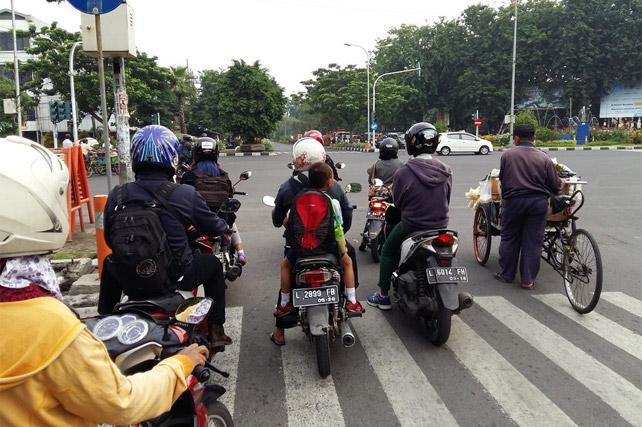plate: (292, 286, 339, 308), (425, 266, 468, 282)
